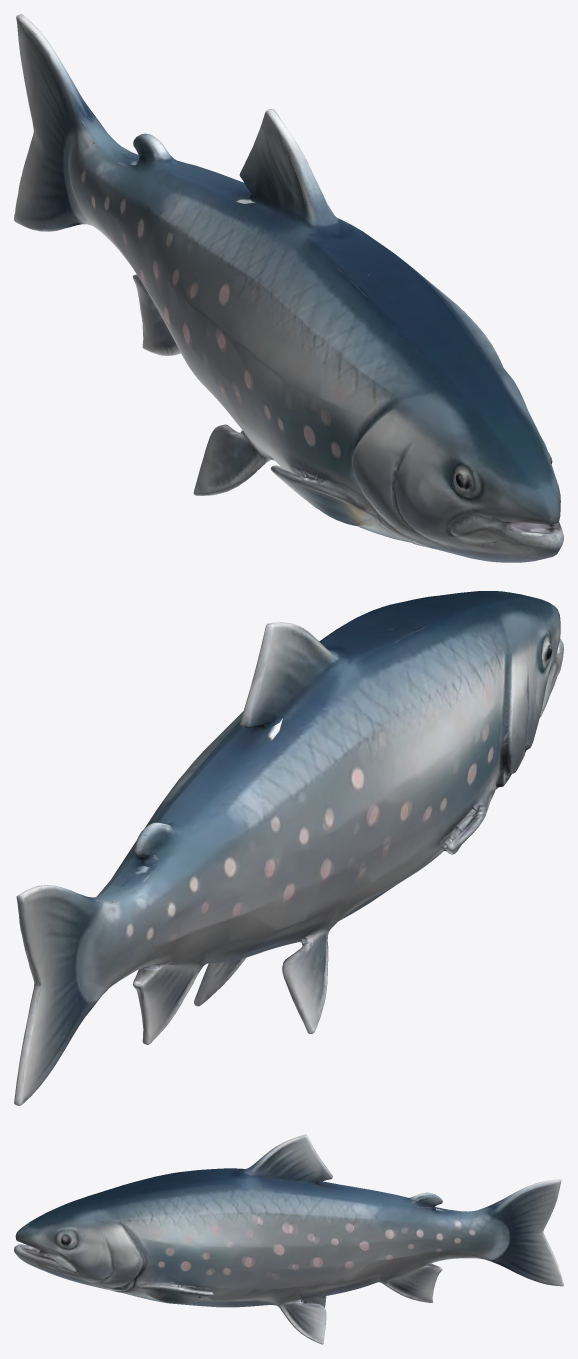
File: fish_arctic_char.glb
3 views of the same model, one above another, from view 1: azimuth 30°, elevation 25°; view 2: azimuth 150°, elevation 25°; view 3: azimuth 270°, elevation 25° (orthographic). The views are drawn at different scales.
Parts seen in each view (by area): view 1: Mesh_0; view 2: Mesh_0; view 3: Mesh_0.
Boxes of the visible parts, x1,y1,x2,y2 form: Mesh_0: (14,14,563,562); Mesh_0: (14,591,563,1105); Mesh_0: (14,1134,563,1344).
Size of the model in its own units: 0.3846 by 0.7498 by 1.91.
Materials: 1 (1 with a texture image).
